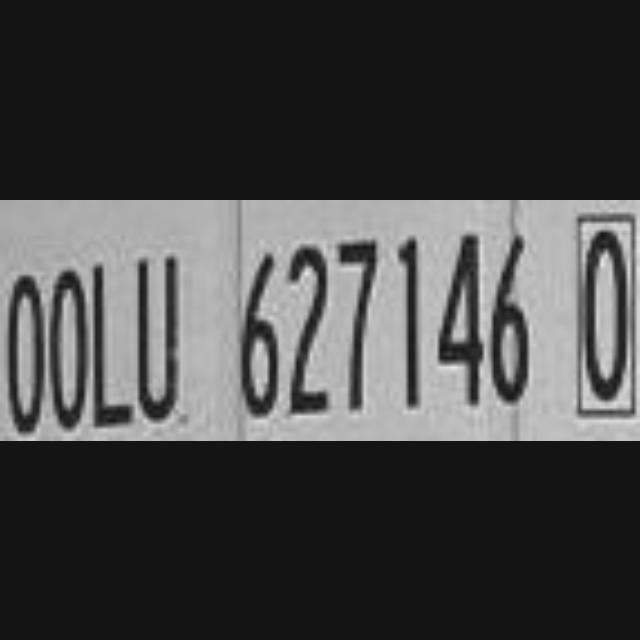0: (582, 222, 628, 408)
1: (392, 228, 434, 420)
2: (284, 238, 332, 424)
4: (434, 220, 488, 416)
6: (235, 243, 285, 425), (488, 220, 534, 414)
7: (334, 232, 388, 422)
l: (90, 258, 134, 440)
o: (0, 266, 48, 440), (47, 262, 91, 440)
u: (135, 250, 185, 432)
